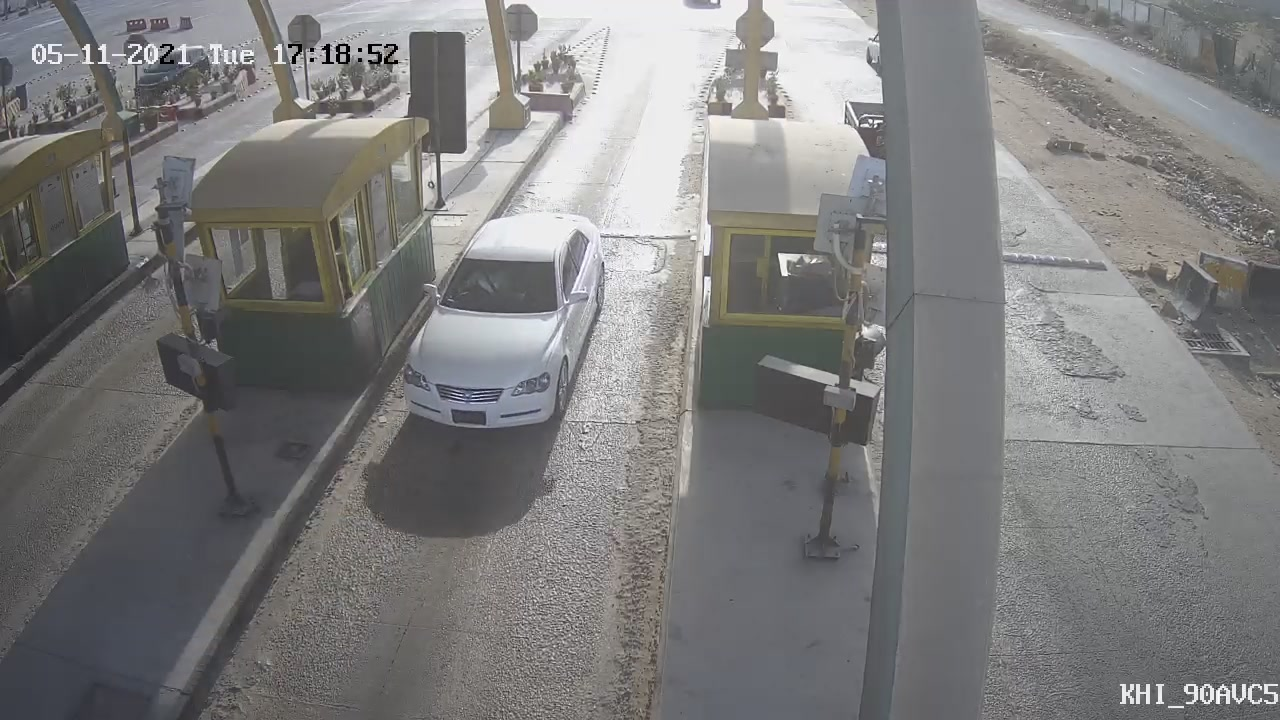F1: (372, 192, 630, 447)
